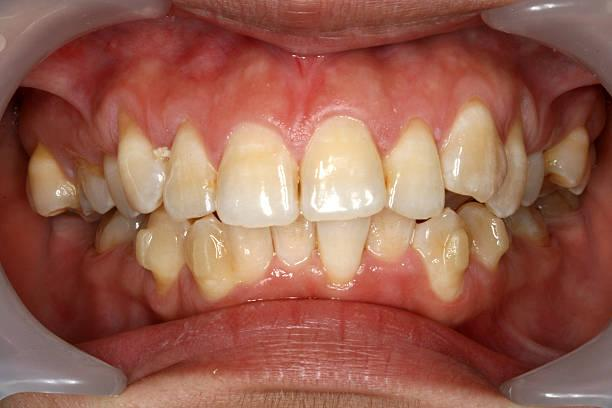Calculus: (187, 221, 245, 307), (424, 218, 480, 307), (470, 207, 516, 266), (78, 158, 123, 210)
Gingivitis: (179, 64, 529, 117)
